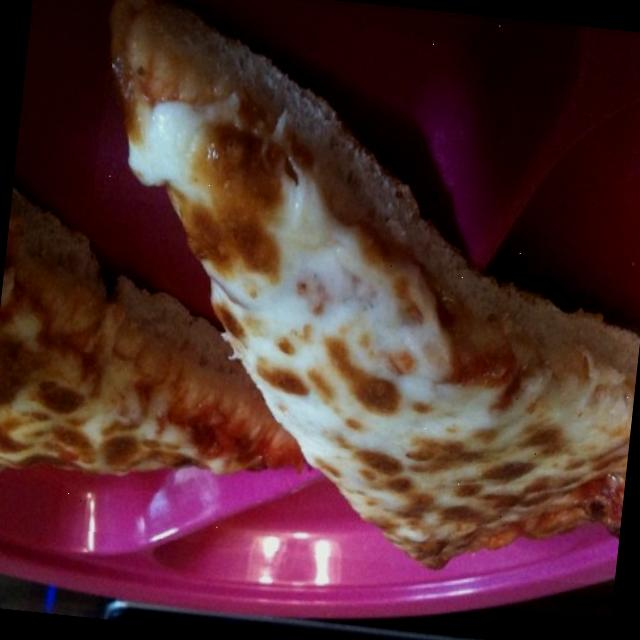pizza: (110, 0, 639, 566), (0, 189, 302, 473)
